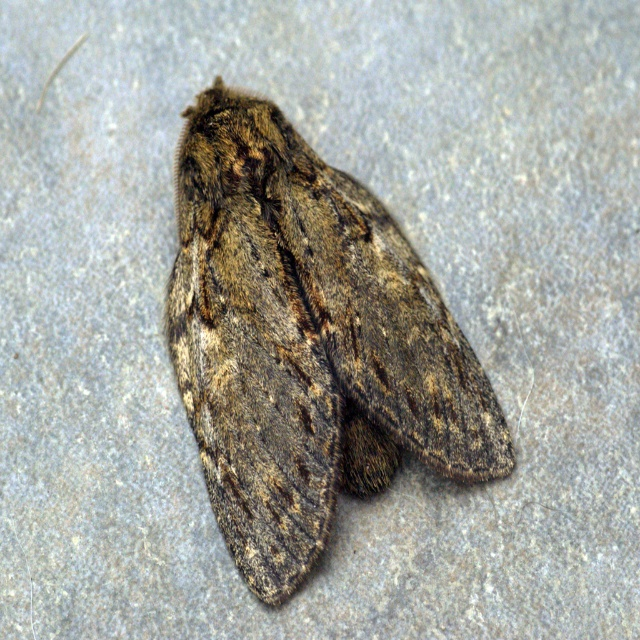Moths and butterflies: (156, 74, 518, 610)
